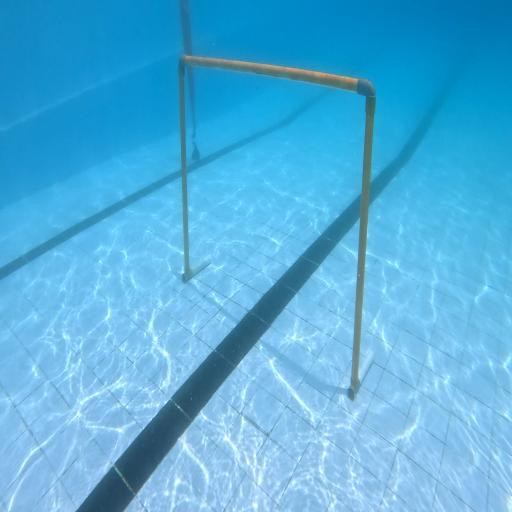gate: (179, 53, 376, 400)
